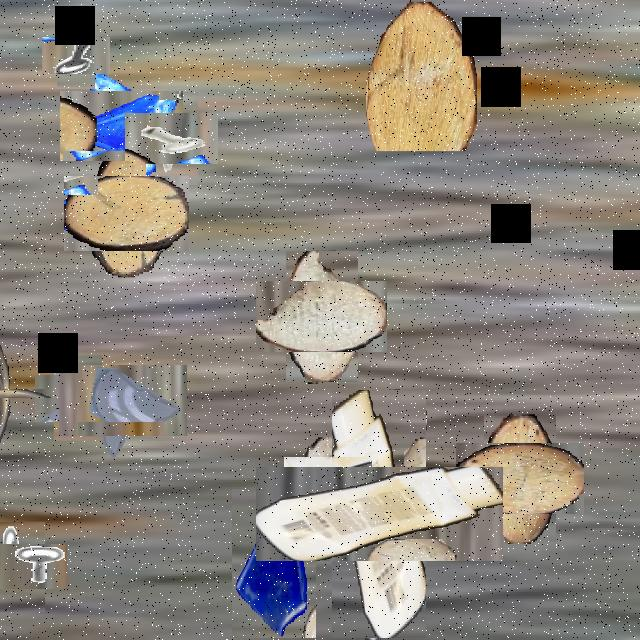glass: (232, 489, 316, 638), (73, 350, 173, 450), (72, 77, 170, 175)
metal: (136, 102, 208, 175), (44, 365, 112, 431), (0, 533, 56, 600), (49, 29, 102, 81)
plastic: (294, 428, 464, 600), (0, 357, 40, 428)
wood: (366, 2, 476, 151), (271, 266, 373, 367), (77, 163, 177, 264), (470, 428, 570, 528), (293, 447, 363, 517)
